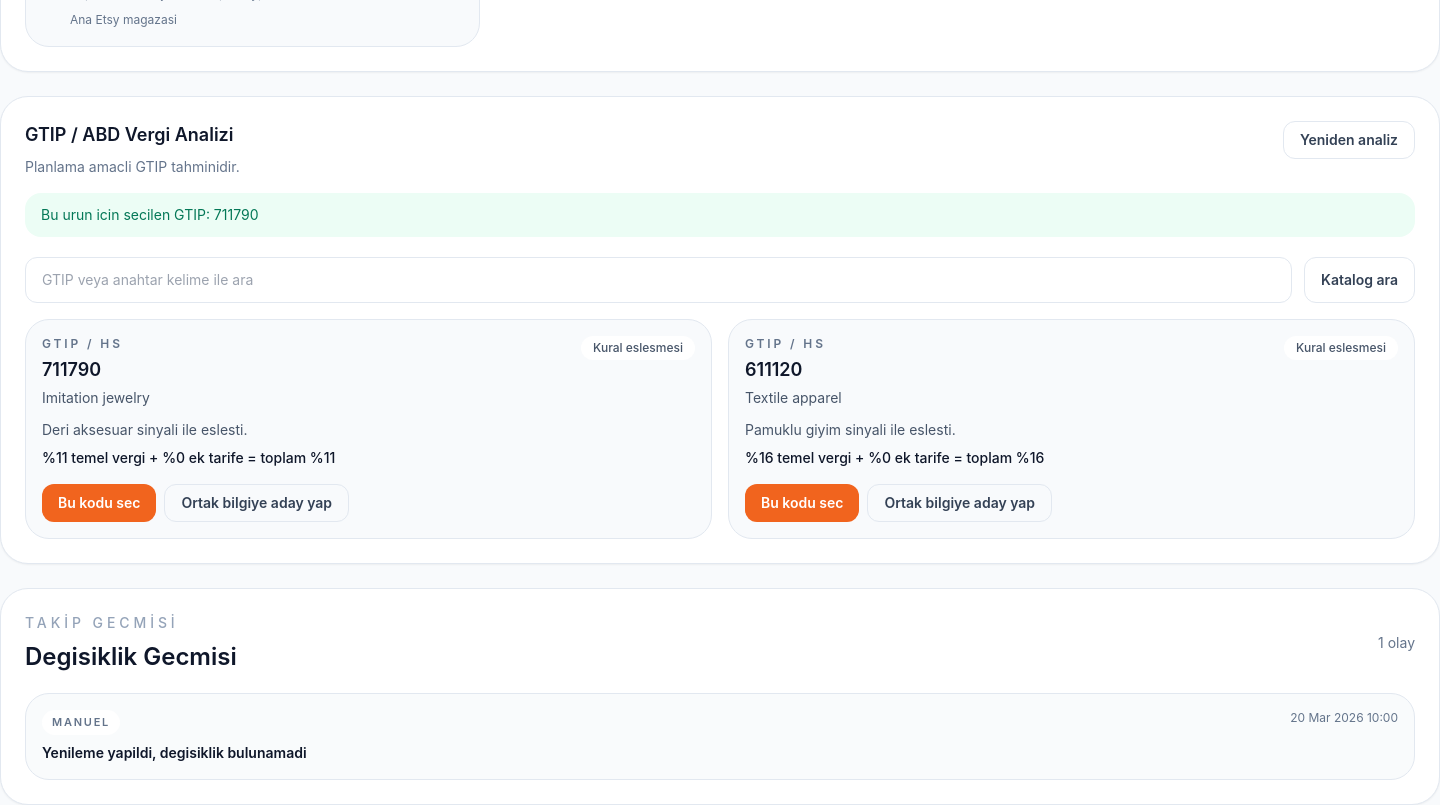
Test: ProductDetailPage › keeps tariff selection flow working without the removed cost panel
(page scrolled)
Expected: the heading "GTIP / ABD Vergi Analizi" is shown, [25,121,240,149]
Click the button "Bu kodu sec" below "Pamuklu giyim sinyali ile eslesti." at (802, 503), box [745,484,860,522]
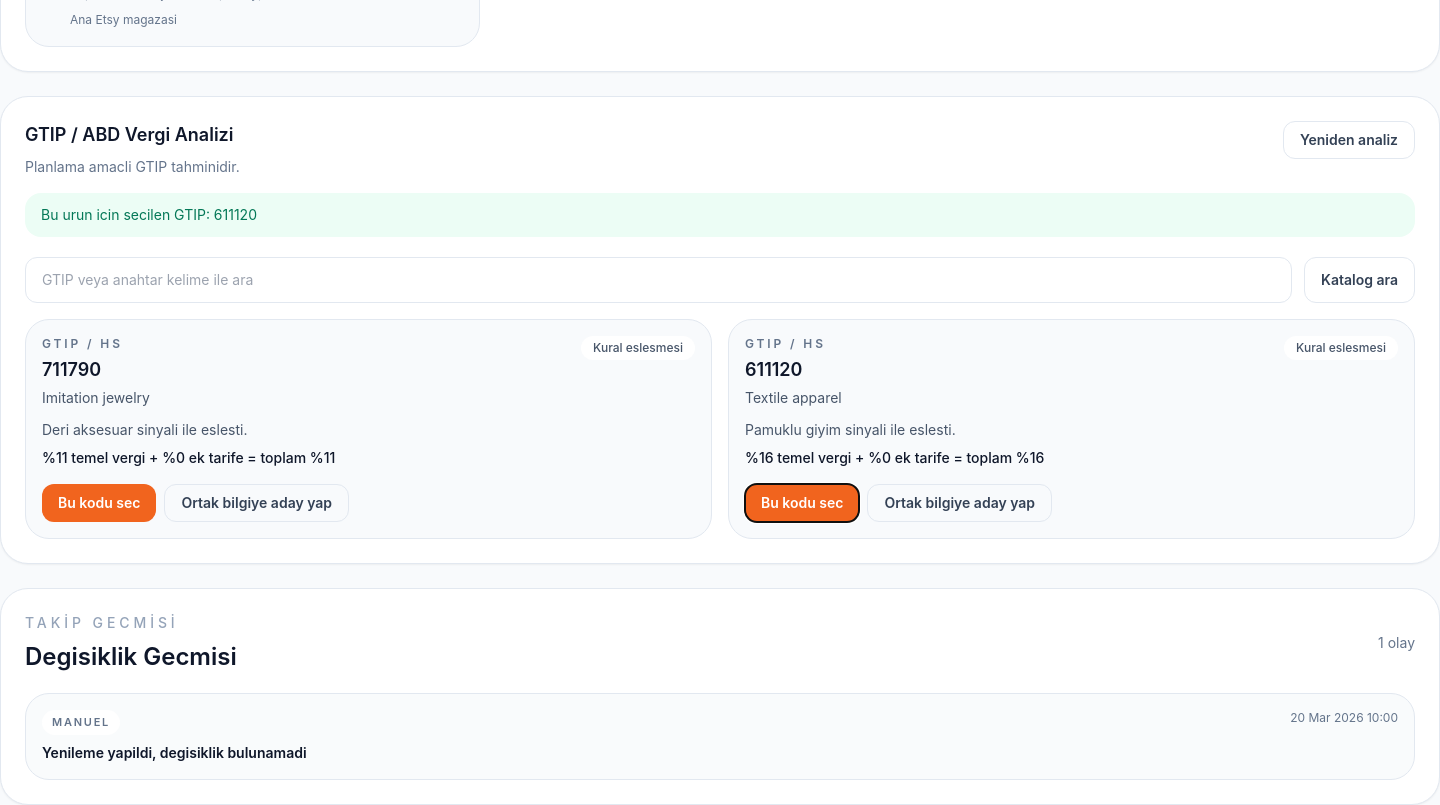
Result: the text "Bu urun icin secilen GTIP: 611120" is shown at [25,193,1415,237]
